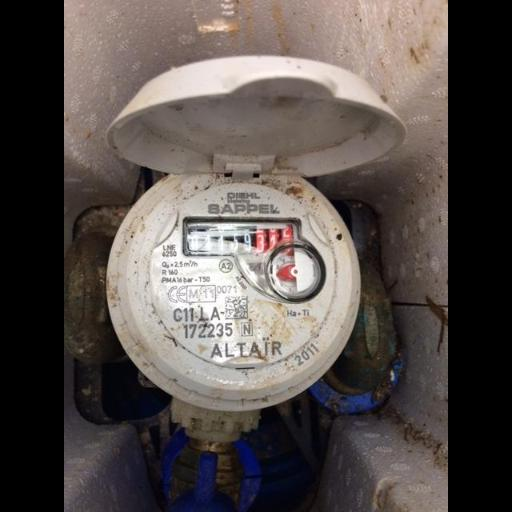0: (188, 226, 202, 252)
1: (214, 225, 229, 253), (201, 226, 215, 252), (266, 229, 280, 254)
2: (279, 224, 293, 246)
3: (255, 229, 268, 255)
5: (227, 226, 241, 255)
9: (241, 225, 255, 255)
border_water_meter_number: (182, 216, 302, 258)
